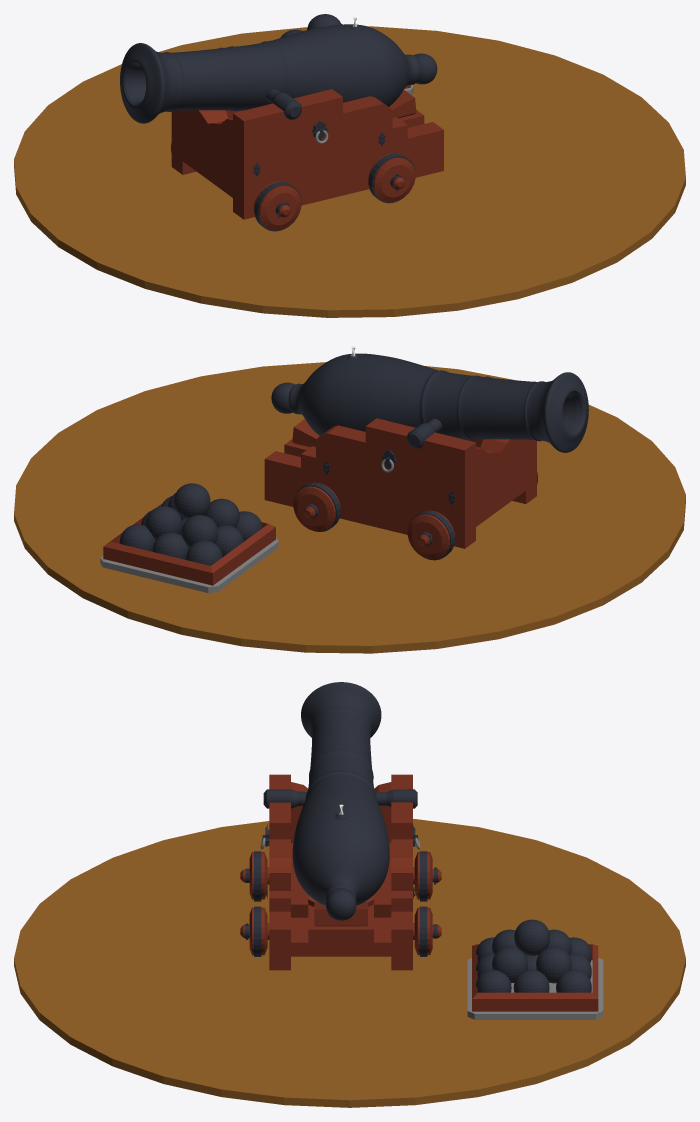
The model's file is CannonBall.fbx.
3 renders of one model, top to bottom at view 1: azimuth 30°, elevation 25°; view 2: azimuth 150°, elevation 25°; view 3: azimuth 270°, elevation 25°, orthographic.
Parts seen in each view (by area): view 1: Cylinder.018, Cube, Cylinder.001, Cylinder, Cylinder.003, Cylinder.007, Cube.001; view 2: Cylinder.018, Cube, Cylinder.001, Cube.006, Cube.007, Cylinder, Cylinder.003, Cube.021, Cube.017, Cube.019, Cube.020, Cube.015 (+6 smaller); view 3: Cylinder.018, Cylinder.001, Cube, Cube.006, Cube.007, Cylinder.007, Cylinder.003, Cylinder, Cube.021, Cube.017, Cube.018, Cube.001 (+3 smaller).
Boxes of the visible parts, box(x1,y1,x2,y2) form: Cylinder.018: box(14, 26, 685, 317); Cube: box(171, 89, 443, 219); Cylinder.001: box(120, 24, 420, 123); Cylinder: box(171, 143, 301, 230); Cylinder.003: box(368, 153, 415, 202); Cylinder.007: box(218, 47, 301, 119); Cube.001: box(414, 53, 437, 84); Cylinder.018: box(14, 362, 685, 653); Cube: box(264, 418, 536, 548); Cylinder.001: box(288, 353, 588, 452); Cube.006: box(103, 503, 275, 585); Cube.007: box(100, 538, 278, 593); Cylinder: box(407, 471, 537, 559); Cylinder.003: box(293, 483, 340, 531); Cube.021: box(174, 483, 210, 518); Cube.017: box(145, 506, 182, 539); Cube.019: box(181, 515, 217, 547); Cube.020: box(204, 498, 239, 527); Cube.015: box(152, 532, 188, 559); Cylinder.018: box(14, 819, 685, 1107); Cylinder.001: box(292, 682, 389, 905); Cube: box(269, 774, 412, 970); Cube.006: box(472, 944, 598, 1011); Cube.007: box(467, 957, 603, 1019); Cylinder.007: box(263, 789, 417, 808); Cylinder.003: box(240, 907, 441, 955); Cylinder: box(240, 852, 441, 899); Cube.021: box(514, 919, 549, 955); Cube.017: box(536, 947, 571, 983); Cube.018: box(492, 947, 527, 983); Cube.001: box(326, 889, 356, 920).
Bounding box in the file's own units: 2486 × 748 × 2486.
